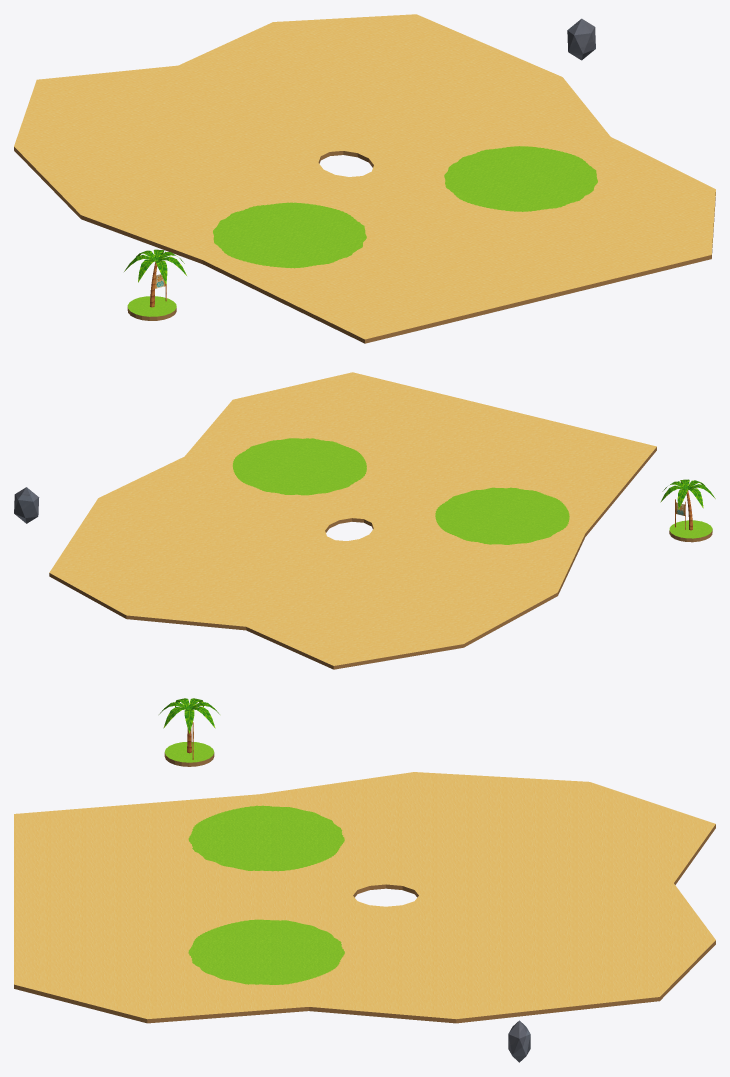
The model's file is surface-28-CacvSeQ5.glb.
The picture shows the model from 3 angles, top to bottom: view 1: azimuth 30°, elevation 25°; view 2: azimuth 150°, elevation 25°; view 3: azimuth 270°, elevation 25°; orthographic projection. The views are drawn at different scales.
Visible parts, largest first — view 1: HI_Surface_28, FLC_Regions_28, HI_Palm.016, HI_SceneryIslet_0.017, HI_BasaltOutcrop.017; view 2: HI_Surface_28, FLC_Regions_28, HI_Palm.016, HI_SceneryIslet_0.017, HI_BasaltOutcrop.017; view 3: HI_Surface_28, FLC_Regions_28, HI_SceneryIslet_0.017, HI_Palm.016, HI_BasaltOutcrop.017.
Boxes of the visible parts, x1=… form: HI_Surface_28: x1=14, y1=14, x2=715, y2=343; FLC_Regions_28: x1=213, y1=146, x2=597, y2=268; HI_Palm.016: x1=124, y1=249, x2=186, y2=307; HI_SceneryIslet_0.017: x1=127, y1=296, x2=176, y2=320; HI_BasaltOutcrop.017: x1=567, y1=18, x2=595, y2=60; HI_Surface_28: x1=49, y1=372, x2=656, y2=669; FLC_Regions_28: x1=232, y1=438, x2=569, y2=544; HI_Palm.016: x1=660, y1=479, x2=715, y2=530; HI_SceneryIslet_0.017: x1=669, y1=520, x2=712, y2=542; HI_BasaltOutcrop.017: x1=14, y1=487, x2=39, y2=523; HI_Surface_28: x1=14, y1=772, x2=715, y2=1023; FLC_Regions_28: x1=188, y1=805, x2=344, y2=984; HI_SceneryIslet_0.017: x1=164, y1=742, x2=214, y2=766; HI_Palm.016: x1=159, y1=698, x2=219, y2=753; HI_BasaltOutcrop.017: x1=508, y1=1020, x2=530, y2=1062.
Size of the model in its own units: 49.97 by 5.15 by 48.
Materials: 7 (6 with a texture image).
